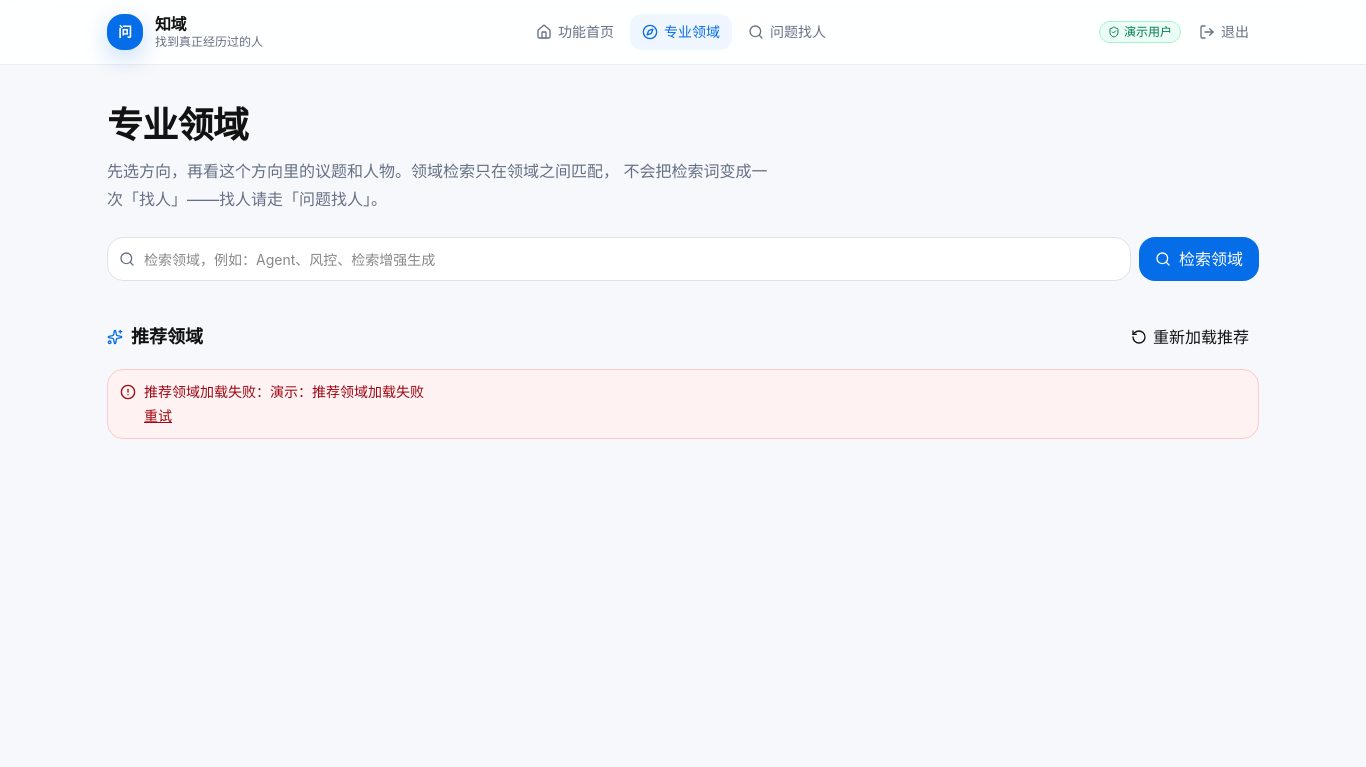
Test case: 专业领域目录 › 推荐领域加载失败时给出可重试错误
expect the heading "专业领域" is shown: met, box [107,103,248,147]
expect the text "推荐领域加载失败：演示：推荐领域加载失败" is shown: met, box [144,382,424,402]
Click the button "重新加载推荐".
click(1190, 337)  # box [1121,321,1259,353]
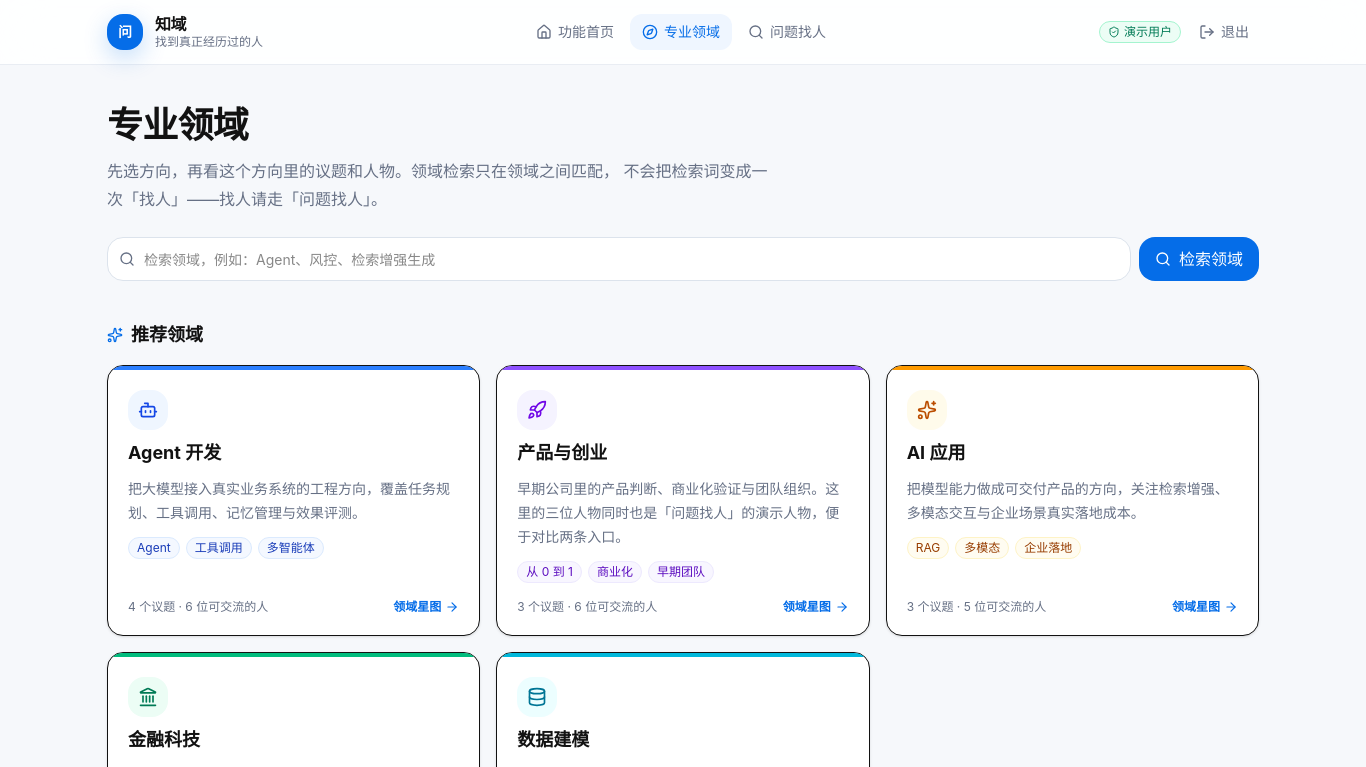
expect the link with aria-label "查看领域 Agent 开发" is shown: met, box [107,365,480,636]
